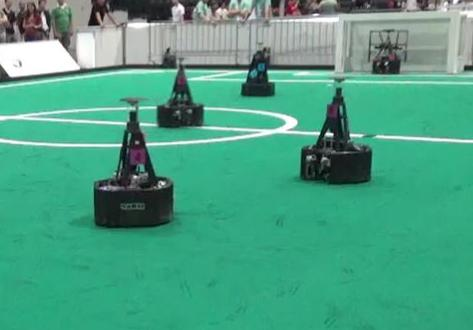robot: (91, 95, 177, 228), (296, 72, 376, 184), (155, 52, 204, 129), (237, 40, 278, 97)
